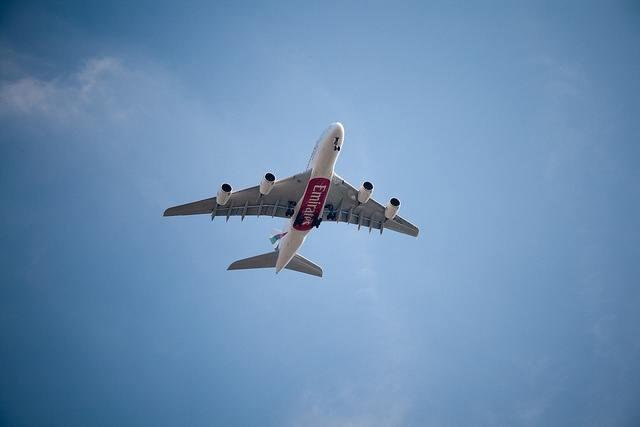airplane: (163, 121, 583, 398)
